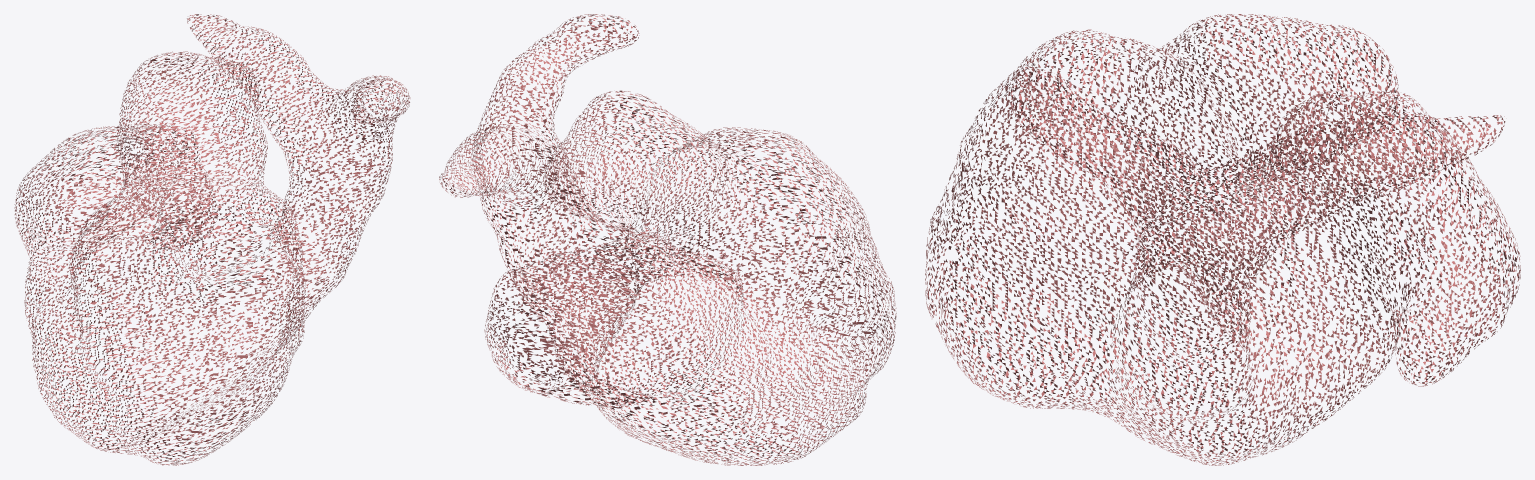
The model's file is heart.glb.
3 views of the same model, side by side, from view 1: azimuth 30°, elevation 25°; view 2: azimuth 150°, elevation 25°; view 3: azimuth 270°, elevation 25° (orthographic). The views are drawn at different scales.
Size of the model in its own units: 112 by 108 by 120.
